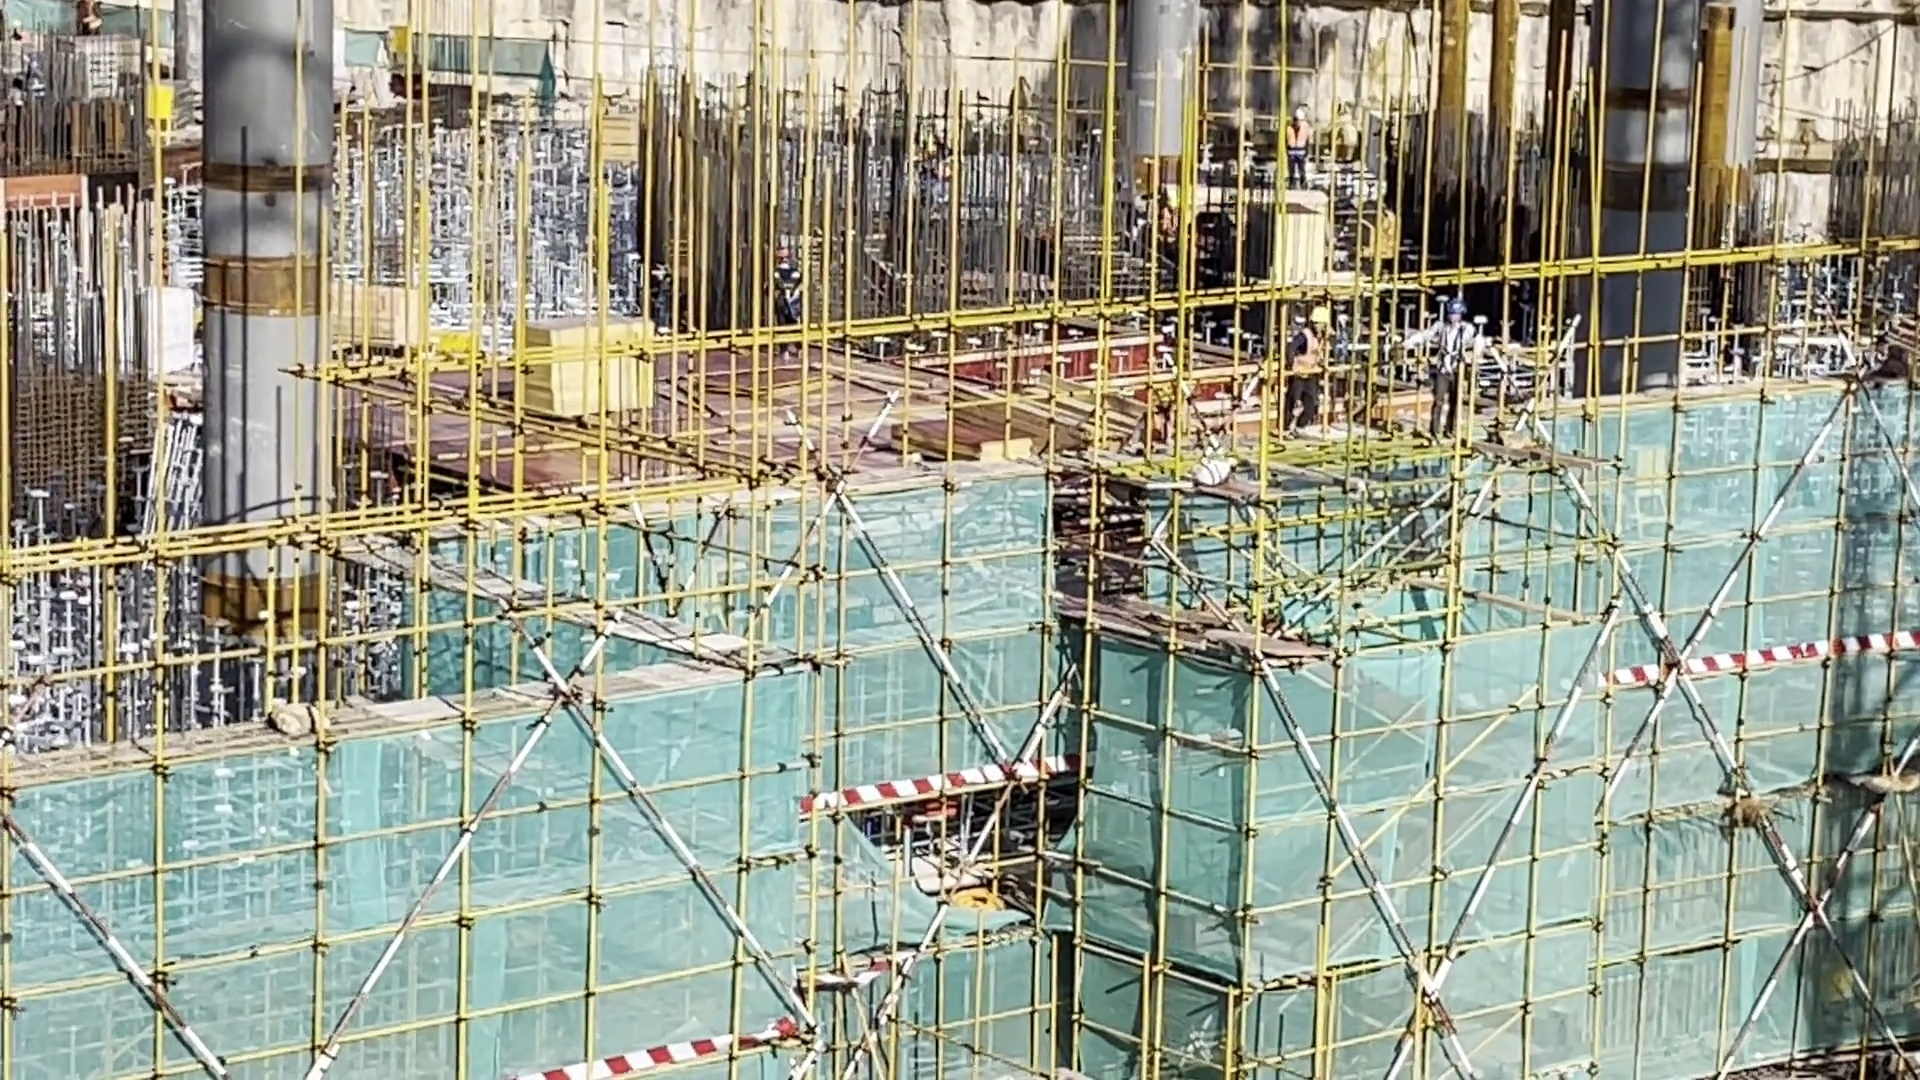helmet: (1313, 307, 1340, 333), (1445, 298, 1470, 326), (1146, 383, 1169, 401), (621, 253, 645, 268), (1294, 104, 1307, 121), (1168, 193, 1178, 210), (779, 248, 789, 262)
person: (1417, 296, 1481, 426), (622, 241, 695, 324), (1287, 308, 1322, 421), (770, 245, 807, 347), (1156, 178, 1188, 277), (1144, 378, 1189, 438), (1284, 107, 1315, 190), (86, 1, 106, 33)
vest: (1426, 327, 1461, 377), (775, 267, 804, 319), (648, 260, 683, 296), (1154, 408, 1185, 436), (1158, 207, 1181, 245), (1298, 337, 1321, 372), (1278, 125, 1307, 150), (77, 5, 100, 31)
